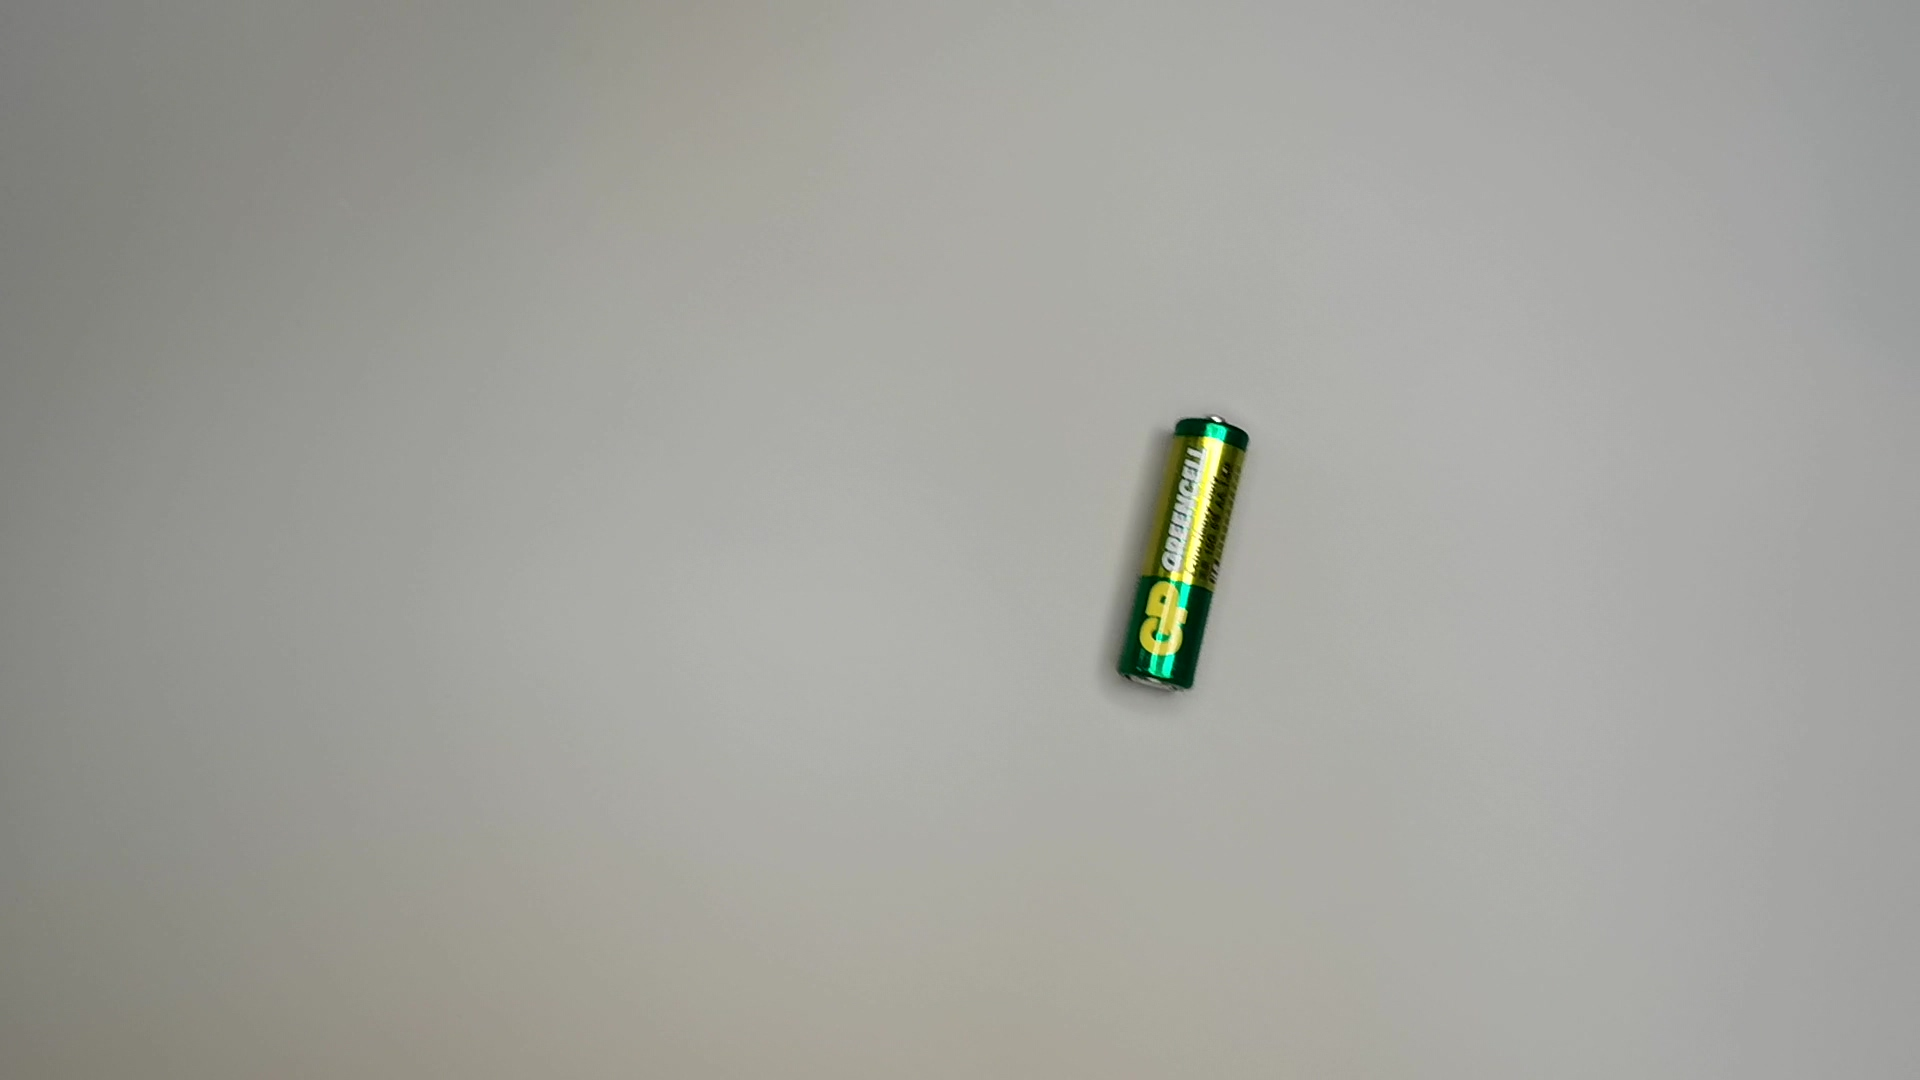battery: (1101, 411, 1251, 705)
